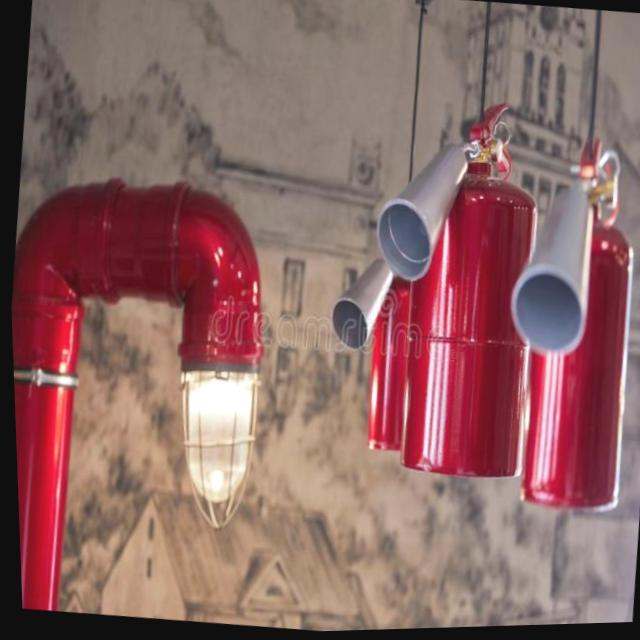FireExtinguisher: (340, 87, 558, 492), (474, 128, 640, 525), (307, 206, 461, 463)
